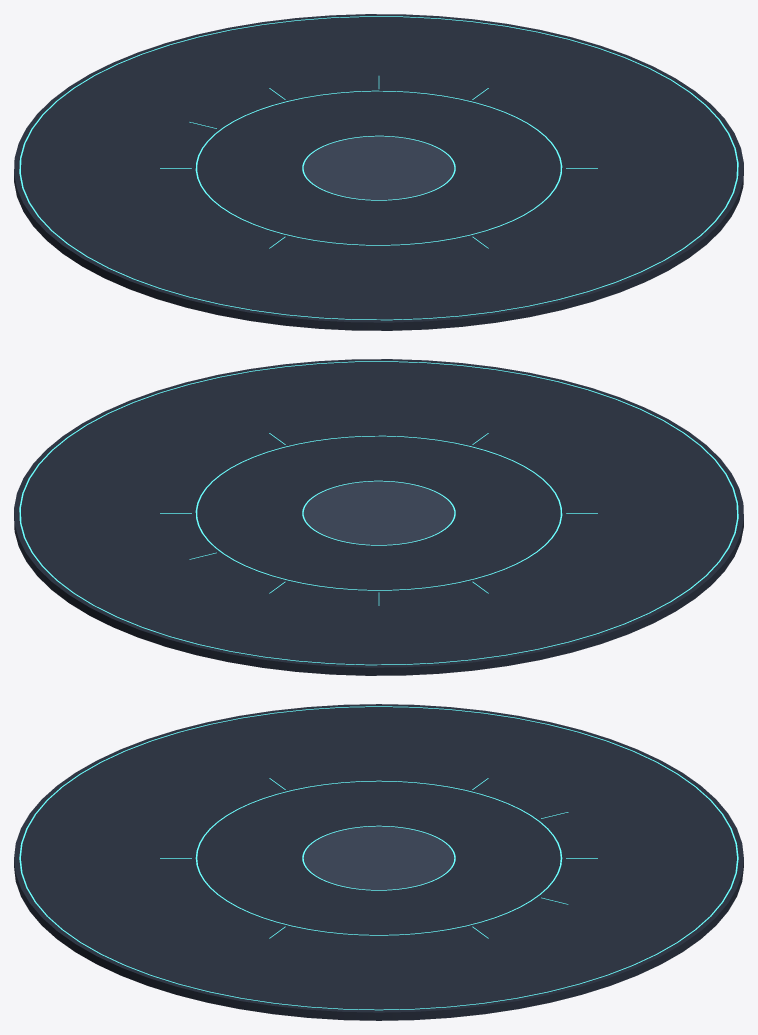
The picture shows the model from 3 angles, top to bottom: view 1: azimuth 30°, elevation 25°; view 2: azimuth 150°, elevation 25°; view 3: azimuth 270°, elevation 25°; orthographic projection.
Visible parts, largest first — view 1: nexo_floor.lod1; view 2: nexo_floor.lod1; view 3: nexo_floor.lod1.
Boxes of the visible parts, x1,y1,x2,y2 form: nexo_floor.lod1: (14, 14, 743, 330); nexo_floor.lod1: (14, 359, 743, 675); nexo_floor.lod1: (14, 704, 743, 1020).
Bounding box in the file's own units: 48 × 0.6094 × 48.
